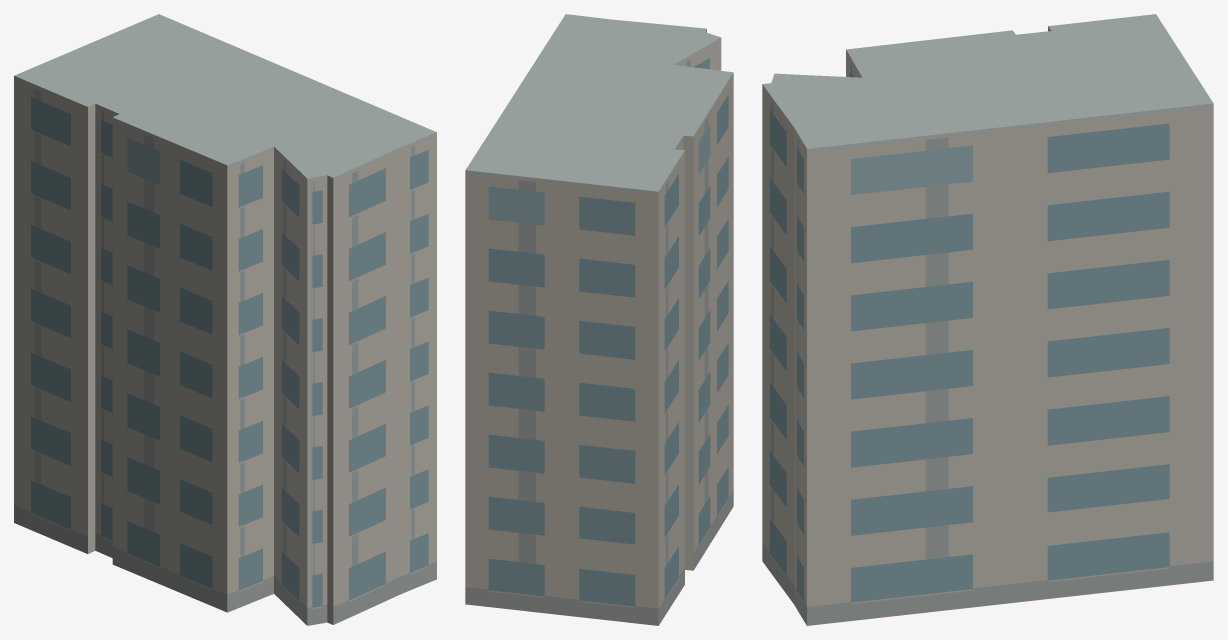
The model's file is survey-upis-32562234.glb.
3 renders of one model, left to right at view 1: azimuth 30°, elevation 25°; view 2: azimuth 150°, elevation 25°; view 3: azimuth 270°, elevation 25°, orthographic. The views are drawn at different scales.
Visible parts, largest first — view 1: survey-upis-32562234.tmp; view 2: survey-upis-32562234.tmp; view 3: survey-upis-32562234.tmp.
Boxes of the visible parts, <box> form: survey-upis-32562234.tmp: <box>14,14,436,625</box>; survey-upis-32562234.tmp: <box>465,14,733,625</box>; survey-upis-32562234.tmp: <box>762,14,1213,625</box>.
Size of the model in its own units: 16.15 by 26.6 by 22.82.
